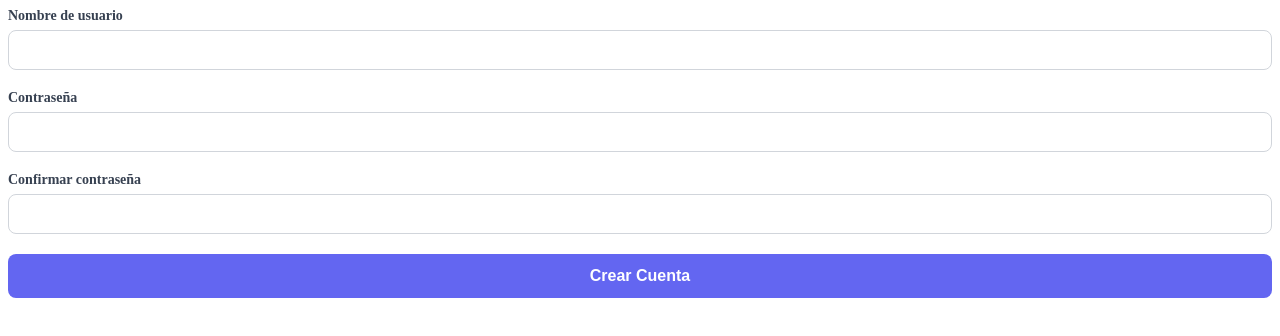
Test: RegisterForm › shows password error when password has fewer than 8 characters
The width and height of the screenshot is (1280, 336).
Step 1. Type "valid_user" into the field labelled "Nombre de usuario" → (640, 50), box [8,30,1272,70]
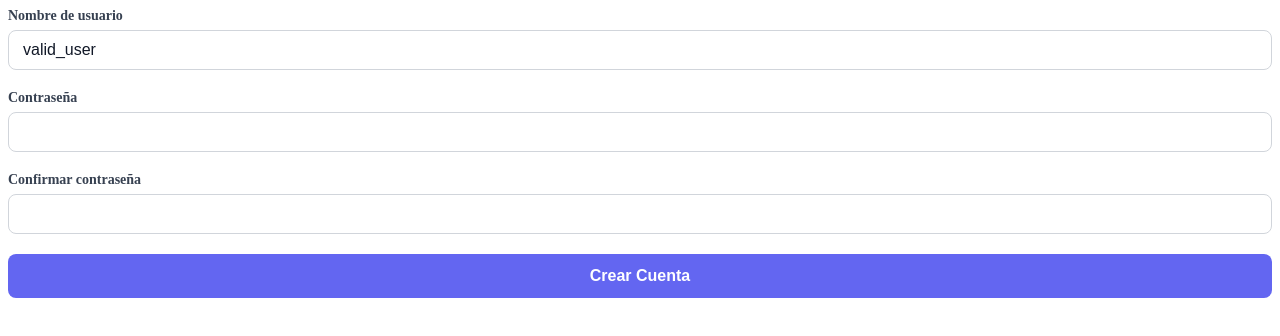
Step 2. Type "1234567" into the password field labelled "Contraseña" → (640, 132), box [8,112,1272,152]
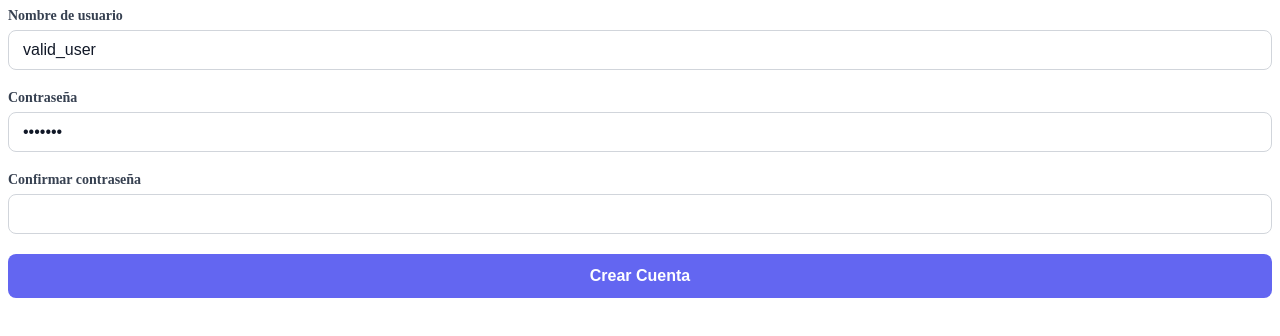
Step 3. Type "1234567" into the password field labelled "Confirmar contraseña" → (640, 214), box [8,194,1272,234]
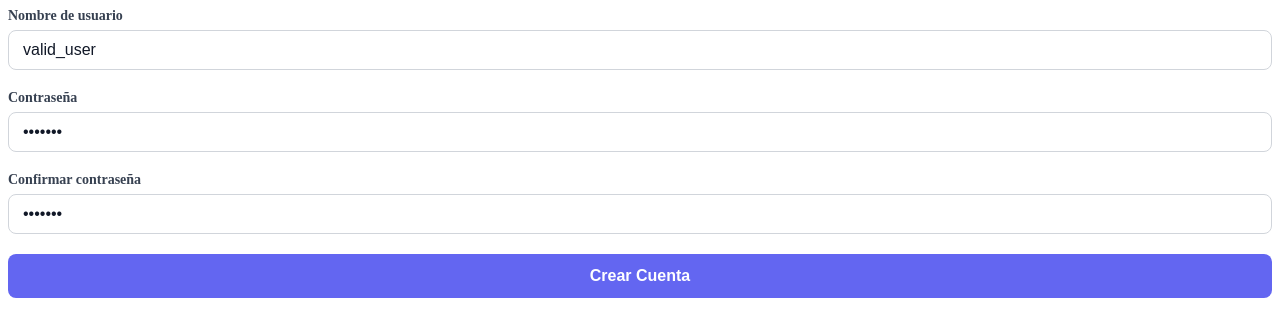
Step 4. Submit the form from the button "Crear Cuenta", box [8,254,1272,298]
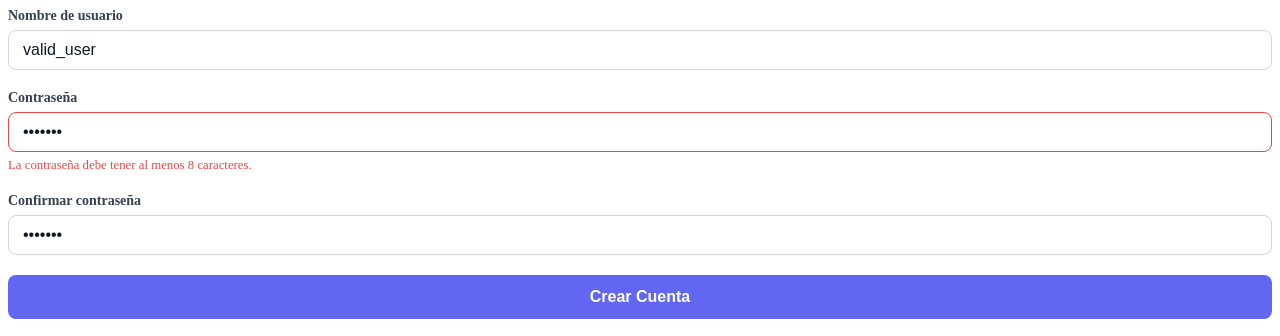
Result: the text "La contraseña debe tener al menos 8 caracteres." is shown at [8,158,252,172]
